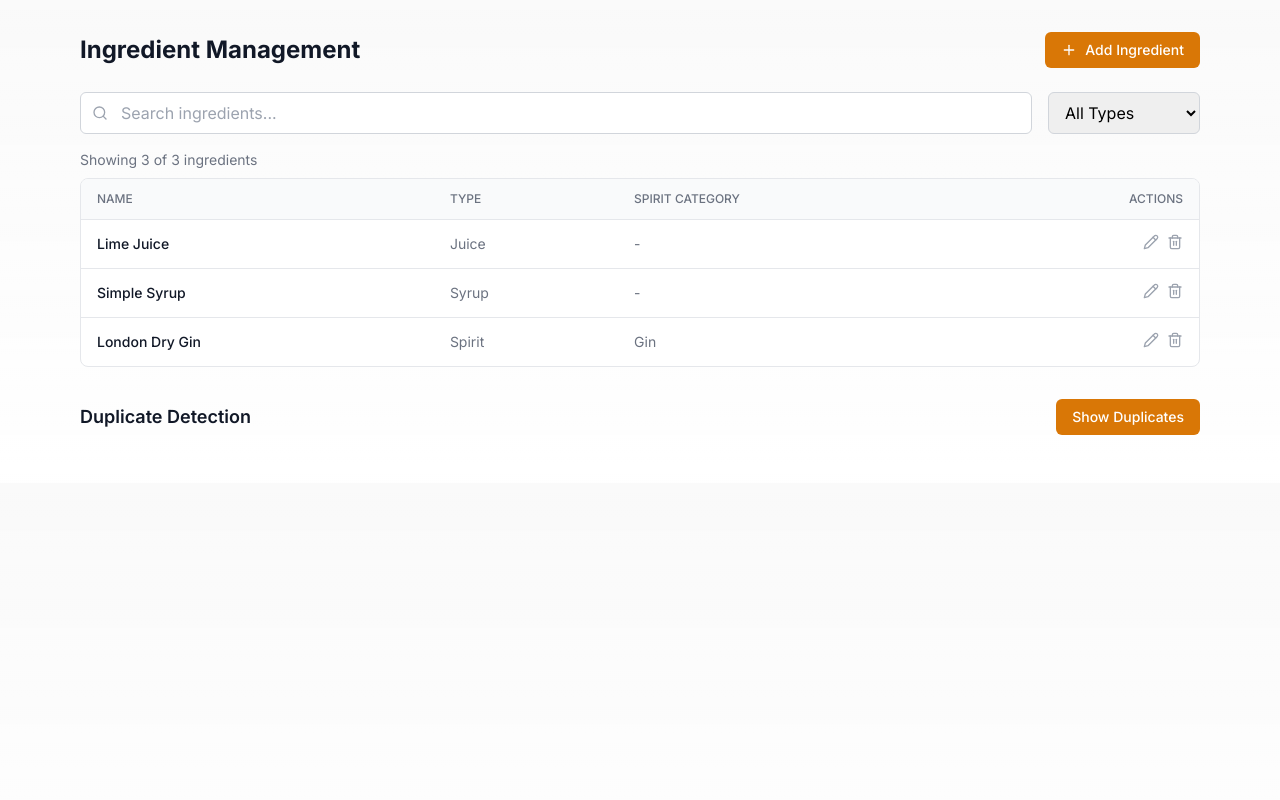
it: IngredientsPage › delete shows confirmation then removes
This screenshot has width=1280, height=800.
Expected: the text "Simple Syrup" is shown, left=81, top=268, right=434, bottom=318
Click delete on Simple Syrup (id: 2, not in-use)
Click the button named "delete".
click(1175, 291)  # box left=1167, top=283, right=1183, bottom=299
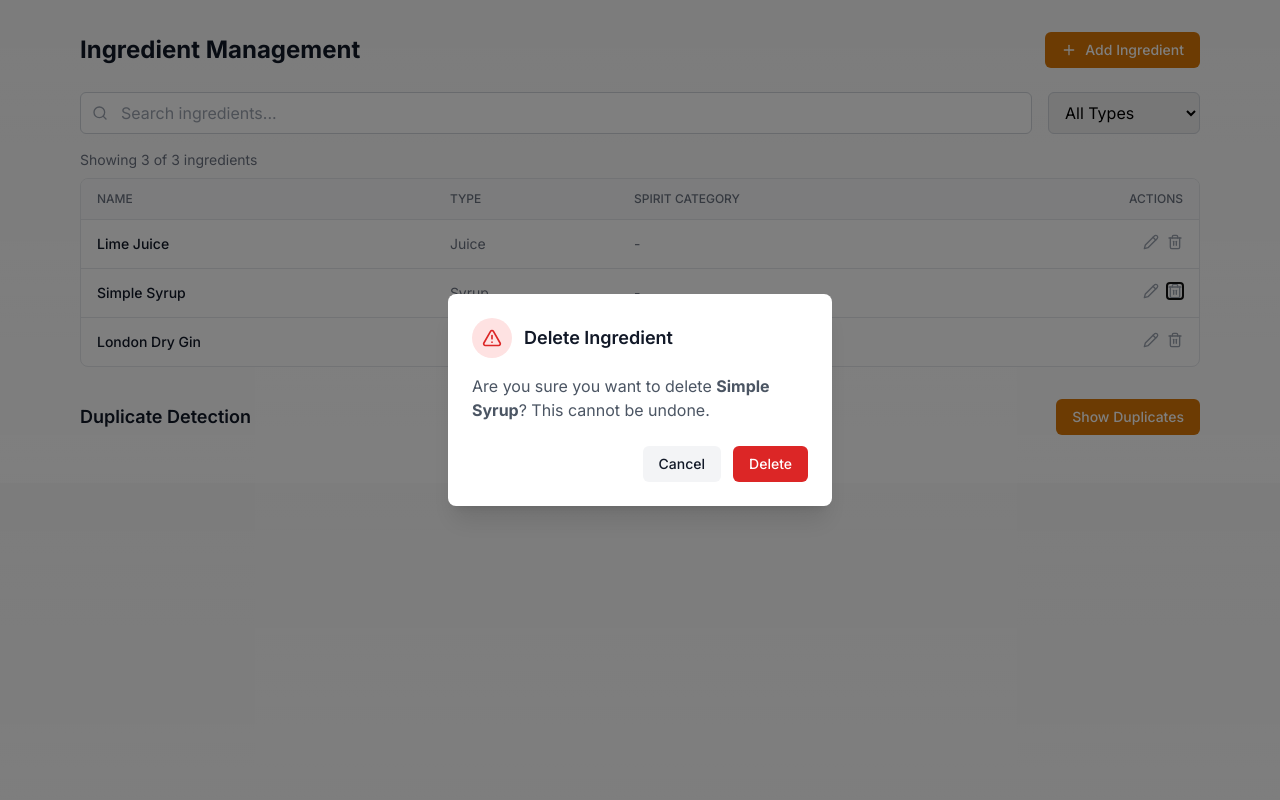
Expected: the text "Are you sure" is shown, left=472, top=376, right=716, bottom=396
Click the button "Delete".
click(771, 464)  # box left=733, top=446, right=808, bottom=482
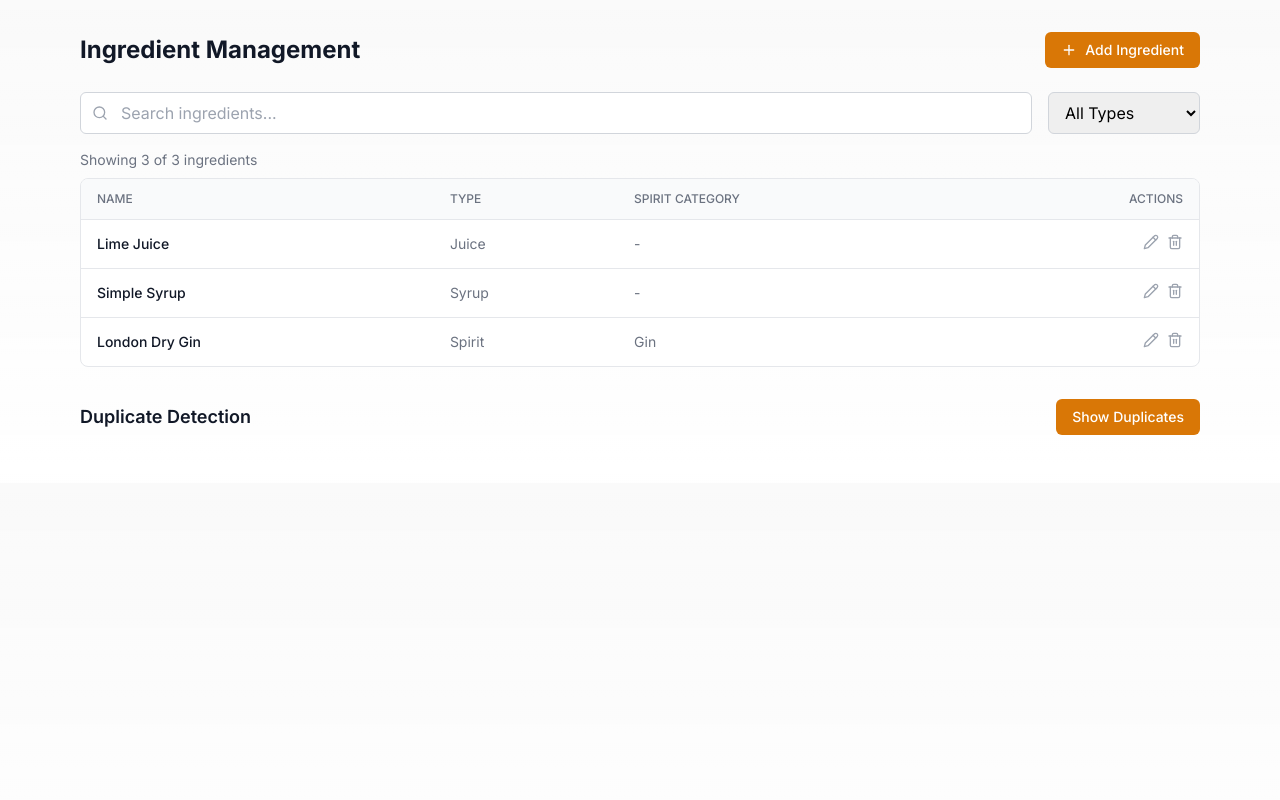
Expected: the text "Are you sure" is gone
